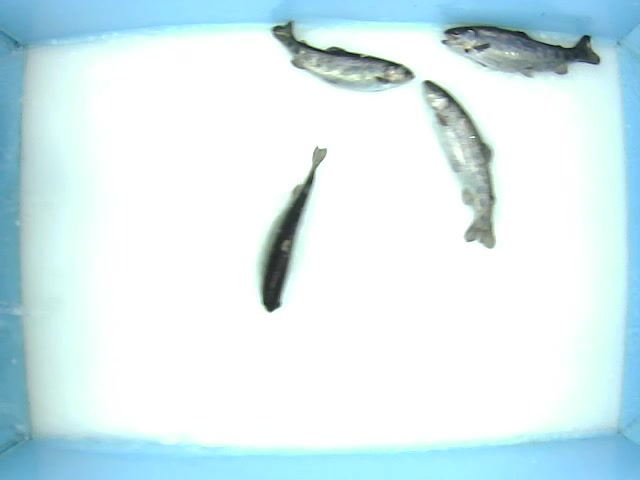fish: (421, 79, 497, 250), (258, 144, 330, 313), (267, 18, 416, 92), (437, 25, 602, 81)
